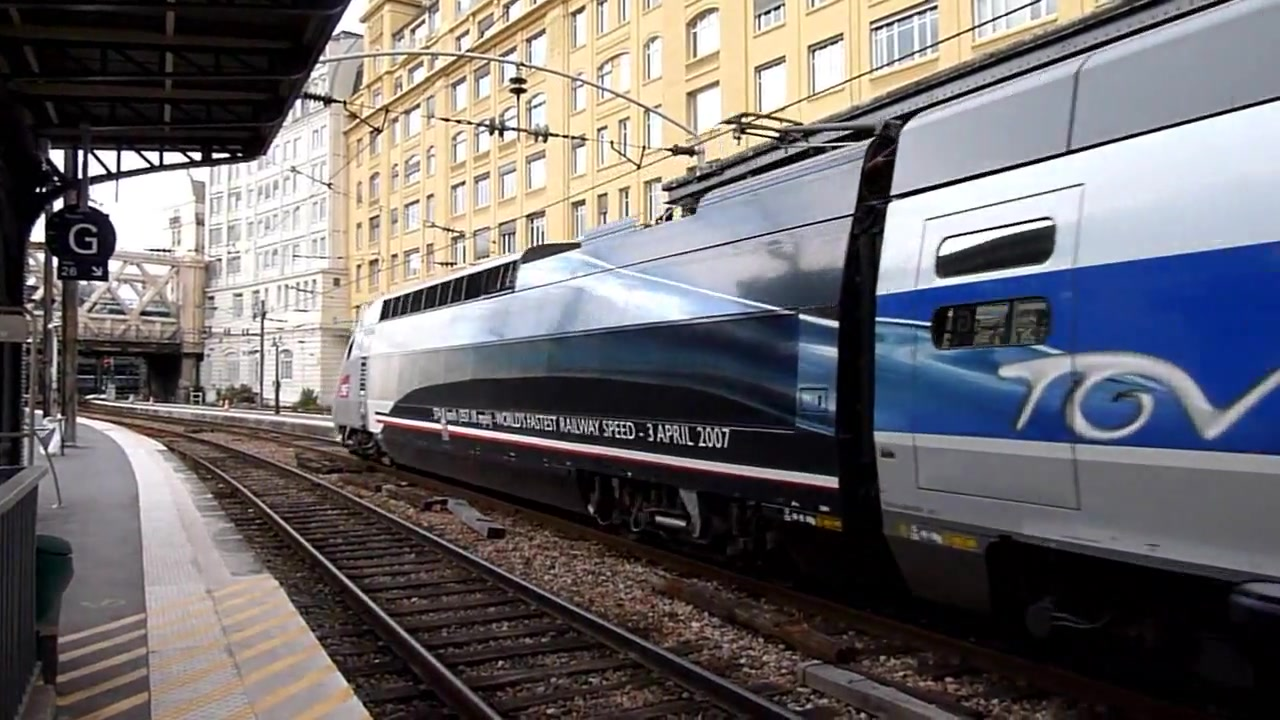train: (332, 1, 1280, 609)
